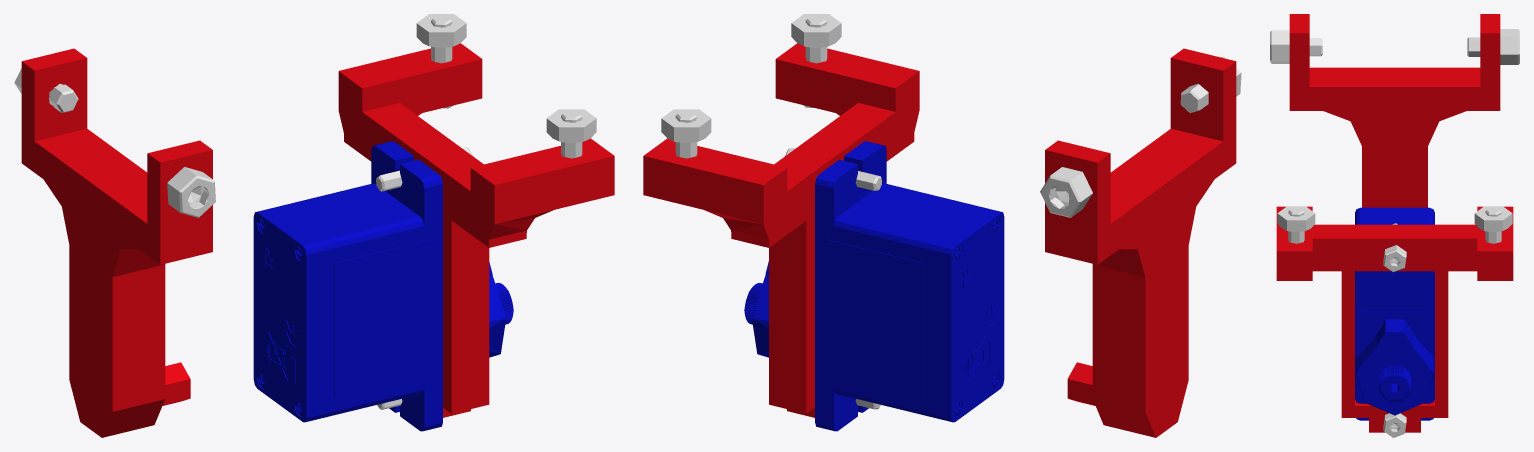
Rendered from zed_mini_servo_up.dae.
3 renders of one model, left to right at view 1: azimuth 30°, elevation 25°; view 2: azimuth 150°, elevation 25°; view 3: azimuth 270°, elevation 25°, orthographic. The views are drawn at different scales.
Visible parts, largest first — view 1: Zedmini_Servo_Up_Red, Zedmini_Servo_Up_Blue, Zedmini_Servo_Up_Grey; view 2: Zedmini_Servo_Up_Red, Zedmini_Servo_Up_Blue, Zedmini_Servo_Up_Grey; view 3: Zedmini_Servo_Up_Red, Zedmini_Servo_Up_Blue, Zedmini_Servo_Up_Grey.
Part boxes in pixels (box(x1,y1,x2,y2)): Zedmini_Servo_Up_Red: box(21, 43, 614, 437); Zedmini_Servo_Up_Blue: box(253, 141, 513, 431); Zedmini_Servo_Up_Grey: box(14, 14, 596, 409); Zedmini_Servo_Up_Red: box(643, 43, 1236, 437); Zedmini_Servo_Up_Blue: box(744, 141, 1004, 431); Zedmini_Servo_Up_Grey: box(661, 14, 1241, 409); Zedmini_Servo_Up_Red: box(1276, 14, 1513, 432); Zedmini_Servo_Up_Blue: box(1355, 207, 1434, 420); Zedmini_Servo_Up_Grey: box(1270, 29, 1519, 437).
Bounding box in the file's own units: 0.0593 × 0.038 × 0.0481.
